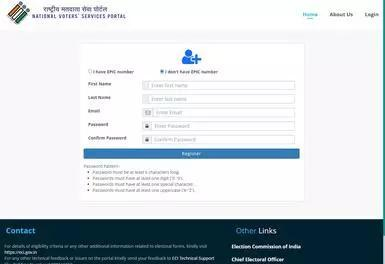button: (84, 149, 301, 161)
input: (148, 94, 297, 105), (152, 121, 297, 132), (152, 135, 297, 146), (153, 108, 296, 119), (149, 82, 297, 91)
label: (161, 70, 220, 76), (89, 69, 135, 75), (87, 136, 129, 142), (330, 11, 354, 18), (86, 82, 114, 88), (87, 96, 113, 102), (87, 123, 111, 129), (301, 12, 321, 19), (364, 12, 381, 18), (87, 110, 103, 115)
